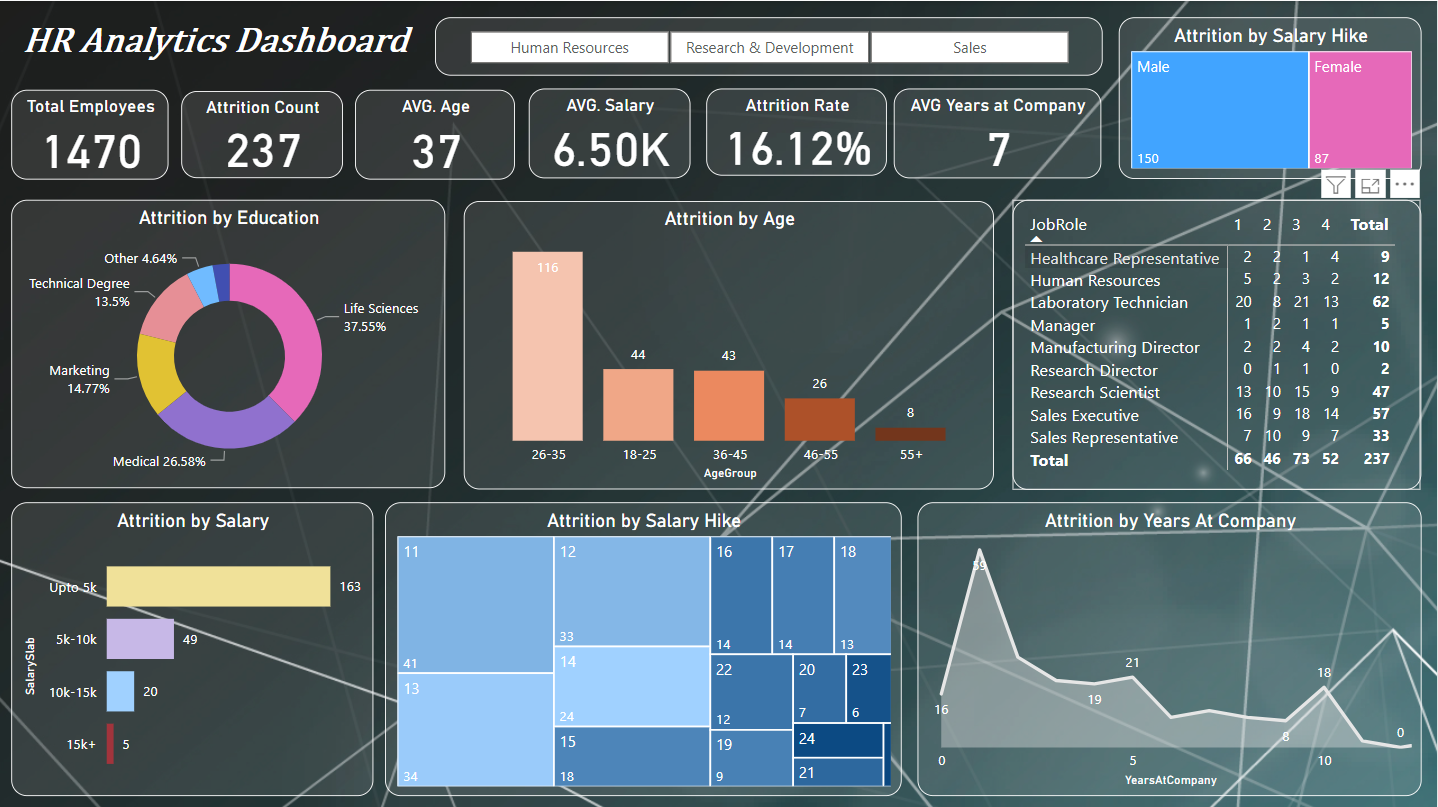

Layout of this report page (visuals, bound fields, positions):
{"tool":"powerbi","page":{"name":"Page 1","canvas":[1280,720],"ordinal":0},"visuals":[{"type":"card","title":"Total Employees","fields":{"Values":["Sum(HR_Analytics.EmployeeCount)"]},"box":[9.8,78.7,140.2,79.9],"z":0},{"type":"card","title":"Attrition Count","fields":{"Values":["Sum(HR_Analytics.Attrition rate)"]},"box":[161.1,79.9,143.9,77.5],"z":1000},{"type":"card","title":"AVG. Age","fields":{"Values":["Avg(HR_Analytics.Age)"]},"box":[316.1,78.7,142.7,79.9],"z":2000},{"type":"card","title":"AVG. Salary","fields":{"Values":["Avg(HR_Analytics.MonthlyIncome)"]},"box":[471,77.5,143.9,79.9],"z":3000},{"type":"card","title":"Attrition Rate","fields":{"Values":["HR_Analytics.Attrition_Rateee"]},"box":[628.4,77.5,161.1,77.5],"z":4000},{"type":"card","title":"AVG Years at Company","fields":{"Values":["Avg(HR_Analytics.YearsAtCompany)"]},"box":[795.7,77.5,184.5,79.9],"z":5000},{"type":"donutChart","title":"Attrition by Education","fields":{"Category":["HR_Analytics.EducationField"],"Y":["Sum(HR_Analytics.Attrition count)"]},"box":[9.8,177.1,386.2,257],"z":6000},{"type":"columnChart","title":"Attrition by Age","fields":{"Category":["HR_Analytics.AgeGroup"],"Y":["Sum(HR_Analytics.Attrition count)"]},"box":[413.2,178.3,472.3,257],"z":7000},{"type":"clusteredBarChart","title":"Attrition by Salary","fields":{"Category":["HR_Analytics.SalarySlab"],"Y":["Sum(HR_Analytics.Attrition count)"]},"box":[9.8,446.4,322.2,262],"z":8000},{"type":"pivotTable","fields":{"Rows":["HR_Analytics.JobRole"],"Columns":["HR_Analytics.JobSatisfaction"],"Values":["Sum(HR_Analytics.Attrition count)"]},"box":[901.5,177.1,364,258.3],"z":9000},{"type":"areaChart","title":"Attrition by Years At Company","fields":{"Category":["HR_Analytics.YearsAtCompany"],"Y":["Sum(HR_Analytics.Attrition count)"]},"box":[816.6,446.4,448.9,262],"z":10000},{"type":"treemap","title":"Attrition by Salary Hike","fields":{"Group":["HR_Analytics.PercentSalaryHike"],"Values":["Sum(HR_Analytics.Attrition count)"]},"box":[343.1,446.4,460,262],"z":11000},{"type":"treemap","title":"Attrition by Salary Hike","fields":{"Values":["Sum(HR_Analytics.Attrition count)"],"Group":["HR_Analytics.Gender"]},"box":[995.8,14.7,269.8,143.7],"z":12000},{"type":"slicer","fields":{"Values":["HR_Analytics.Department"]},"box":[387.4,14.8,594,51.7],"z":13000},{"type":"textbox","box":[9.8,13.5,362.8,52.9],"z":14000}]}

Visuals, with their boxes in screenshot pixels (x1, y1, x2, y2), scaled from the page's 1280x720 canvas onto the 1438x807 screenshot:
"Total Employees" card: rect(11, 88, 169, 178)
"Attrition Count" card: rect(181, 90, 343, 176)
"AVG. Age" card: rect(355, 88, 515, 178)
"AVG. Salary" card: rect(529, 87, 691, 176)
"Attrition Rate" card: rect(706, 87, 887, 174)
"AVG Years at Company" card: rect(894, 87, 1101, 176)
"Attrition by Education" donutChart: rect(11, 198, 445, 487)
"Attrition by Age" columnChart: rect(464, 200, 995, 488)
"Attrition by Salary" clusteredBarChart: rect(11, 500, 373, 794)
pivotTable - HR_Analytics.JobRole x HR_Analytics.JobSatisfaction: rect(1013, 198, 1422, 488)
"Attrition by Years At Company" areaChart: rect(917, 500, 1422, 794)
"Attrition by Salary Hike" treemap: rect(385, 500, 902, 794)
"Attrition by Salary Hike" treemap: rect(1119, 16, 1422, 178)
slicer - HR_Analytics.Department: rect(435, 17, 1103, 75)
textbox: rect(11, 15, 419, 74)
